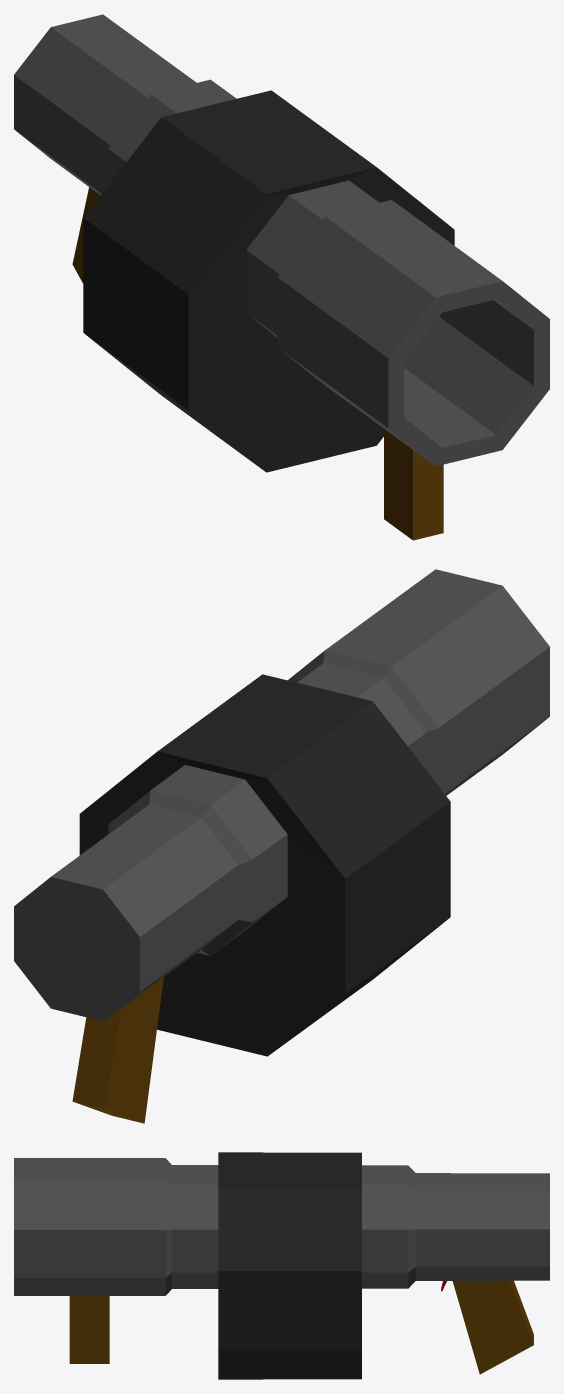
Rendered from launcher.fbx.
3 renders of one model, top to bottom at view 1: azimuth 30°, elevation 25°; view 2: azimuth 150°, elevation 25°; view 3: azimuth 270°, elevation 25°, orthographic. The views are drawn at different scales.
Visible parts, largest first — view 1: Circle; view 2: Circle; view 3: Circle.
Boxes of the visible parts, box(x1,y1,x2,y2) form: Circle: box(14, 14, 549, 540); Circle: box(14, 569, 549, 1123); Circle: box(14, 1152, 549, 1379).
Bounding box in the file's own units: 84.9 × 89.25 × 217.
